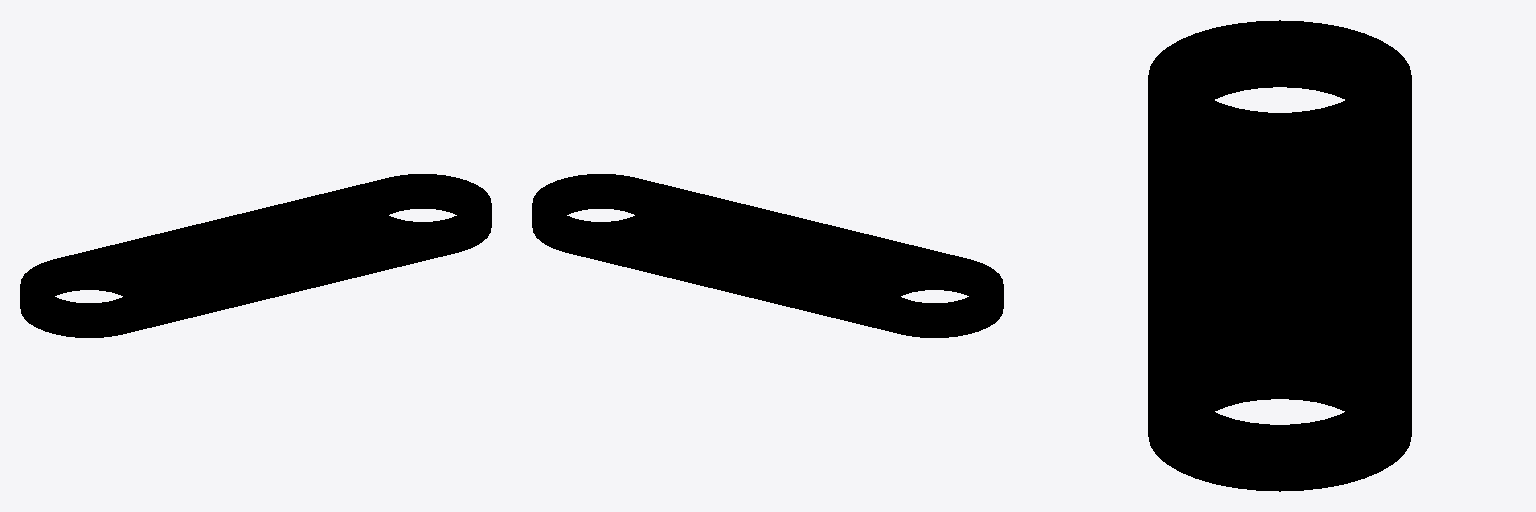
The robot description file, URDF, robot "wafer":
<?xml version="1.0" ?>
<robot name="wafer">
  <link name="baseLink">
    <contact>
      <lateral_friction value="1.0"/>
      <rolling_friction value="0.0"/>
      <contact_cfm value="0.0"/>
      <contact_erp value="1.0"/>
    </contact>
    <inertial>
      <origin rpy="0 0 0" xyz="0.0001 0.0 0.0"/>
       <mass value="0.008"/>
       <inertia ixx="0.000000489" ixy="0" ixz="0" iyy="0.000004865" iyz="0" izz="0.000005319"/>
    </inertial>
    <visual>
      <origin rpy="0 0 0" xyz="0.0001 0.0 0.0"/>
      <geometry>
        <mesh filename="../obj/wafer.obj" scale=".001 .001 .001"/>
      </geometry>
       <material name="black">
        <color rgba="0 0 0 1"/>
      </material>
    </visual>
    <collision concave="yes">
      <origin rpy="0 0 0" xyz="0.0001 0.0 0.0"/>
      <geometry>
	 	<mesh filename="../obj/wafer.obj" scale=".001 .001 .001"/>
      </geometry>
    </collision>
  </link>
</robot>

--- Render facts (derived) ---
The picture shows the robot from 3 angles, left to right: view 1: azimuth 30°, elevation 25°; view 2: azimuth 150°, elevation 25°; view 3: azimuth 270°, elevation 25°; orthographic projection.
Model wafer with 1 links and 0 joints (none), rooted at baseLink, posed every joint at zero.
Visible links, largest first — view 1: baseLink; view 2: baseLink; view 3: baseLink.
Link boxes in pixels (x1,y1,x2,y2): baseLink: (20,174,491,337); baseLink: (532,174,1003,337); baseLink: (1148,20,1411,491).
Bounding box of the posed robot: 0.095 × 0.025 × 0.005 m (x, y, z).
Meshes: 1 distinct files referenced, 1 mesh visuals loaded (1 OBJ).
